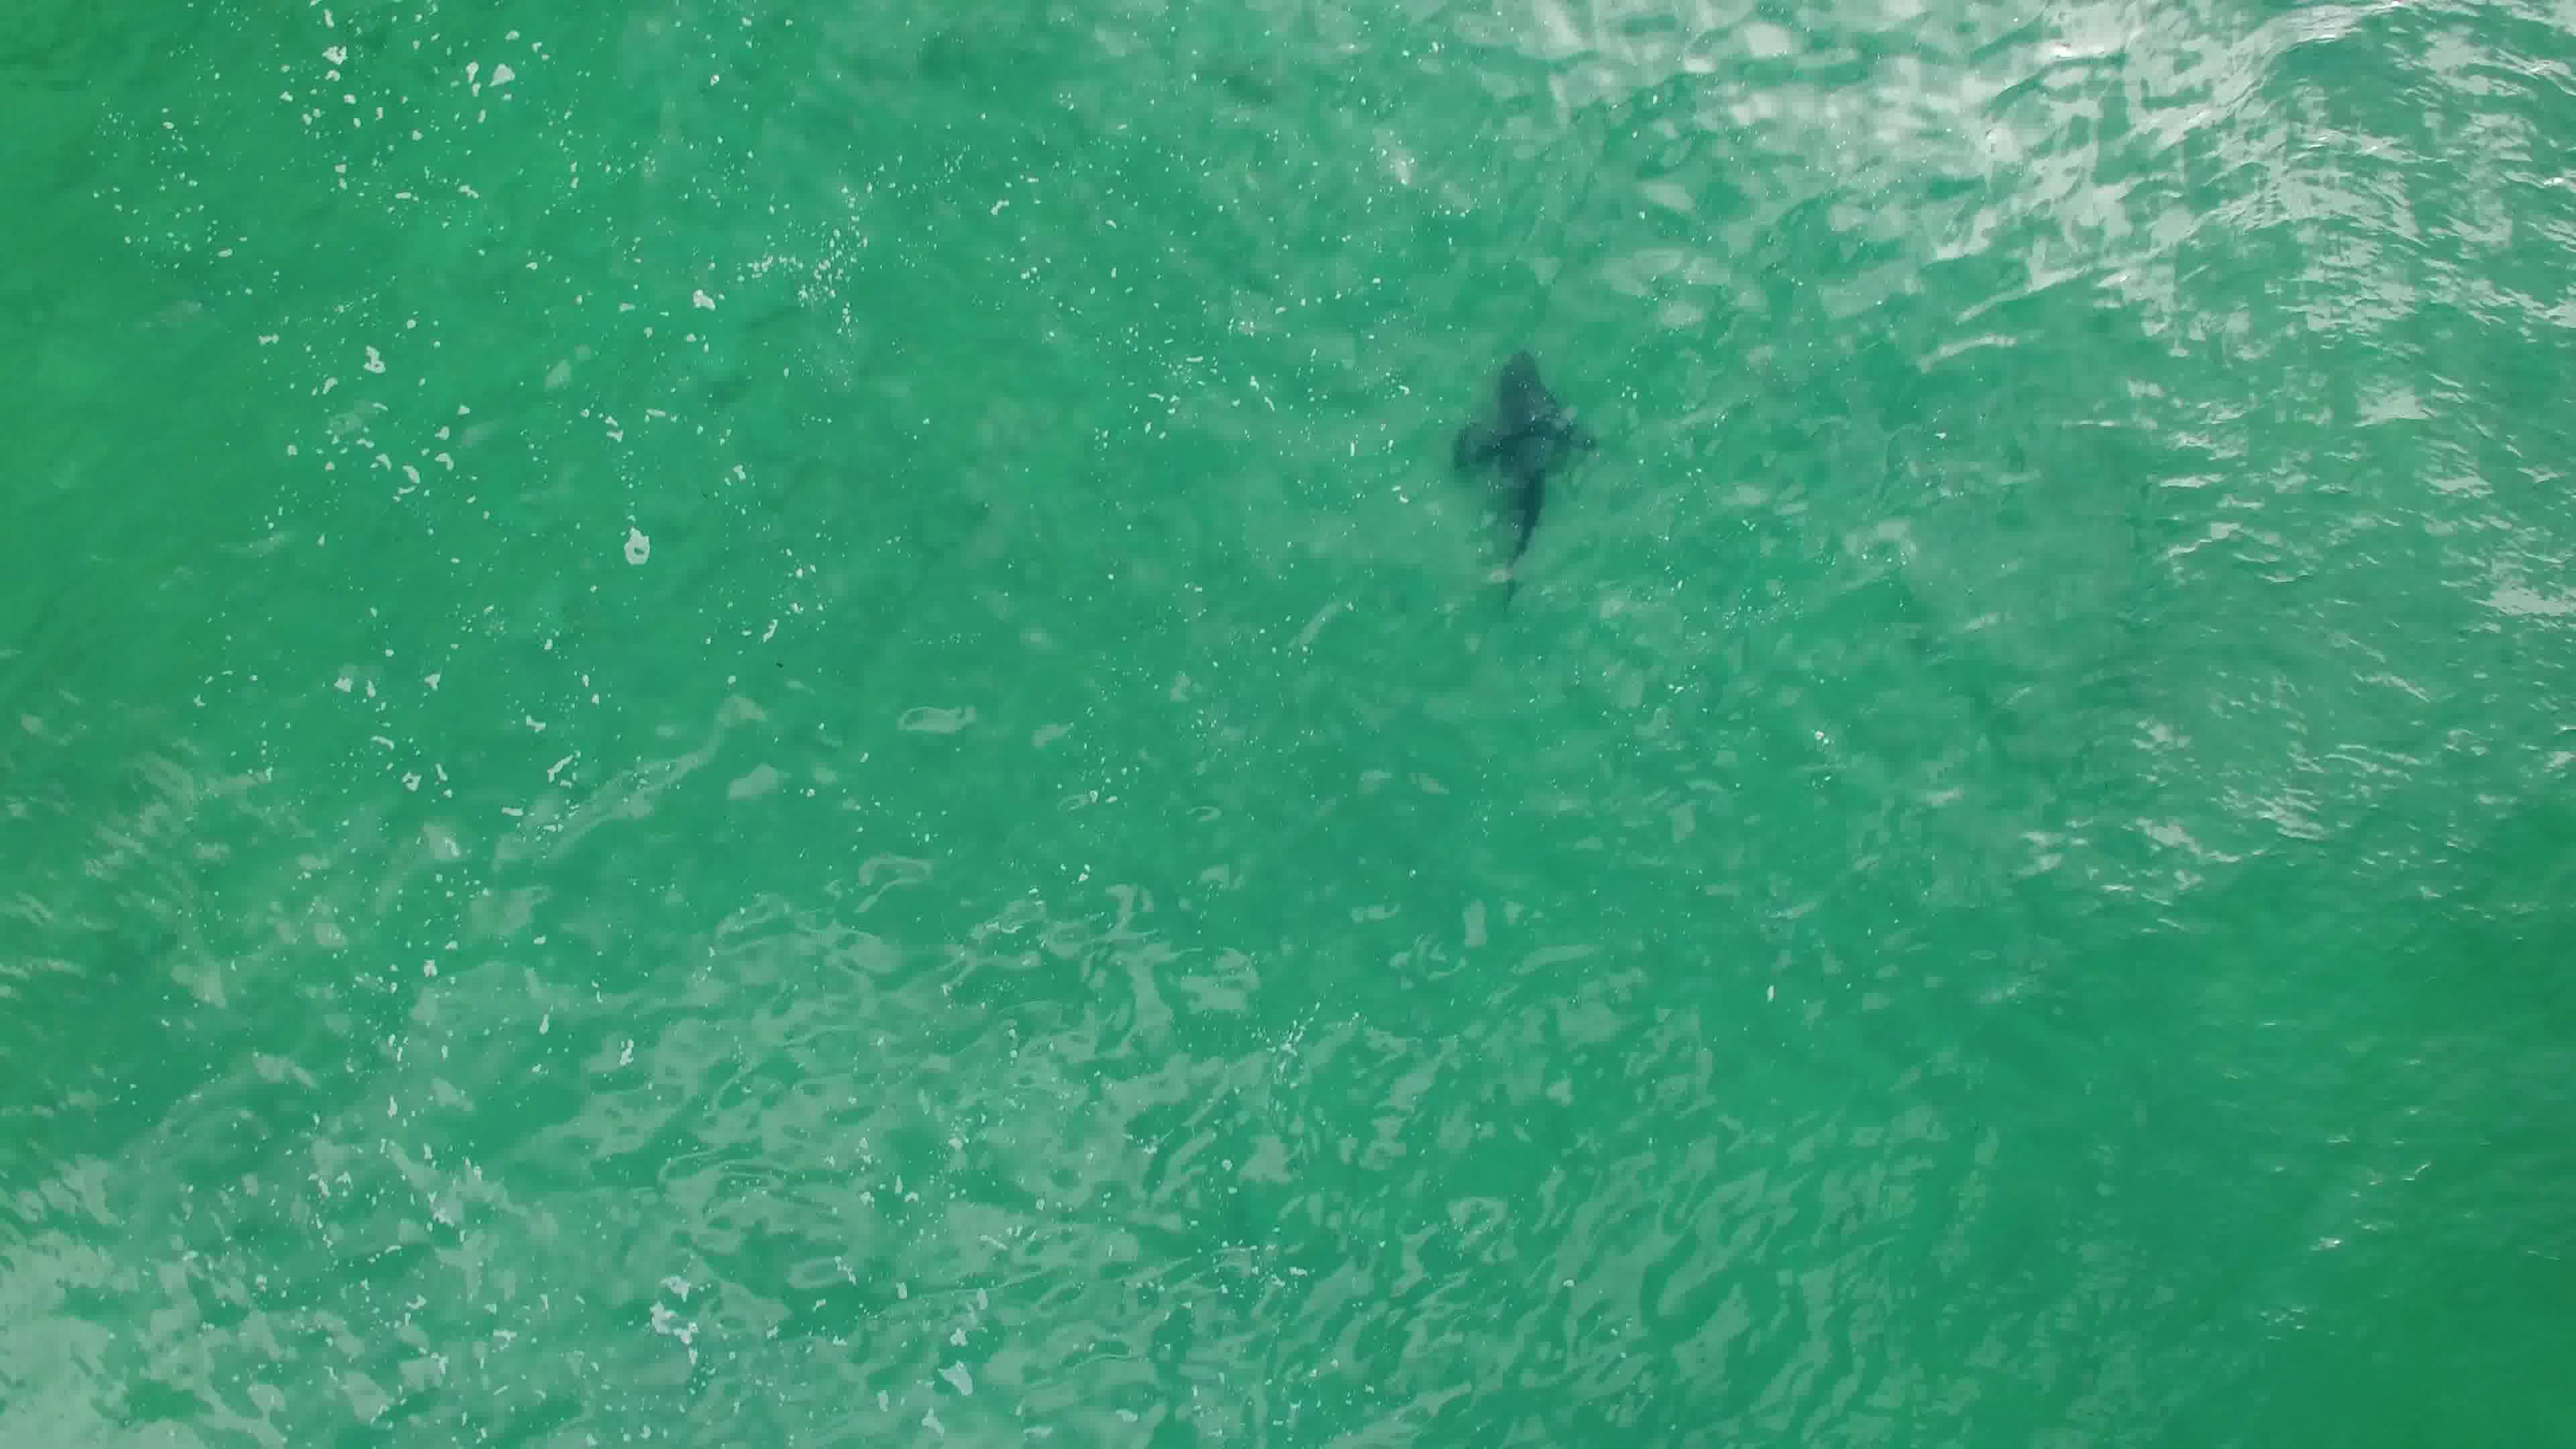shark: (1445, 347, 1606, 591)
